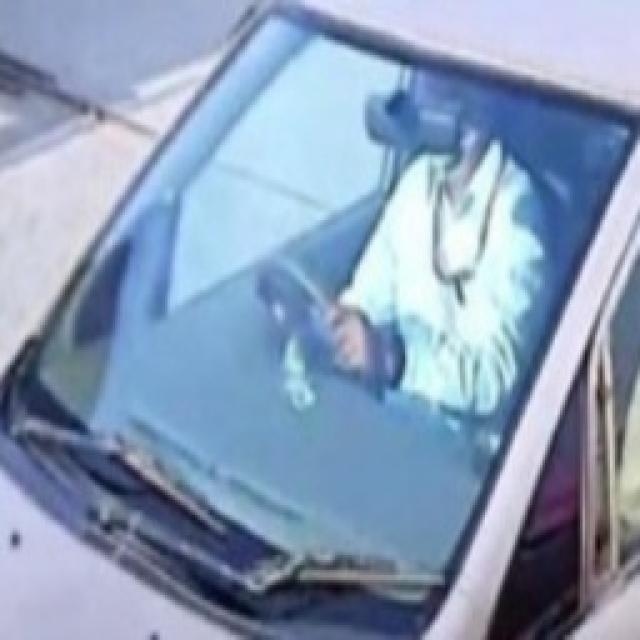windshield: (26, 11, 634, 628)
